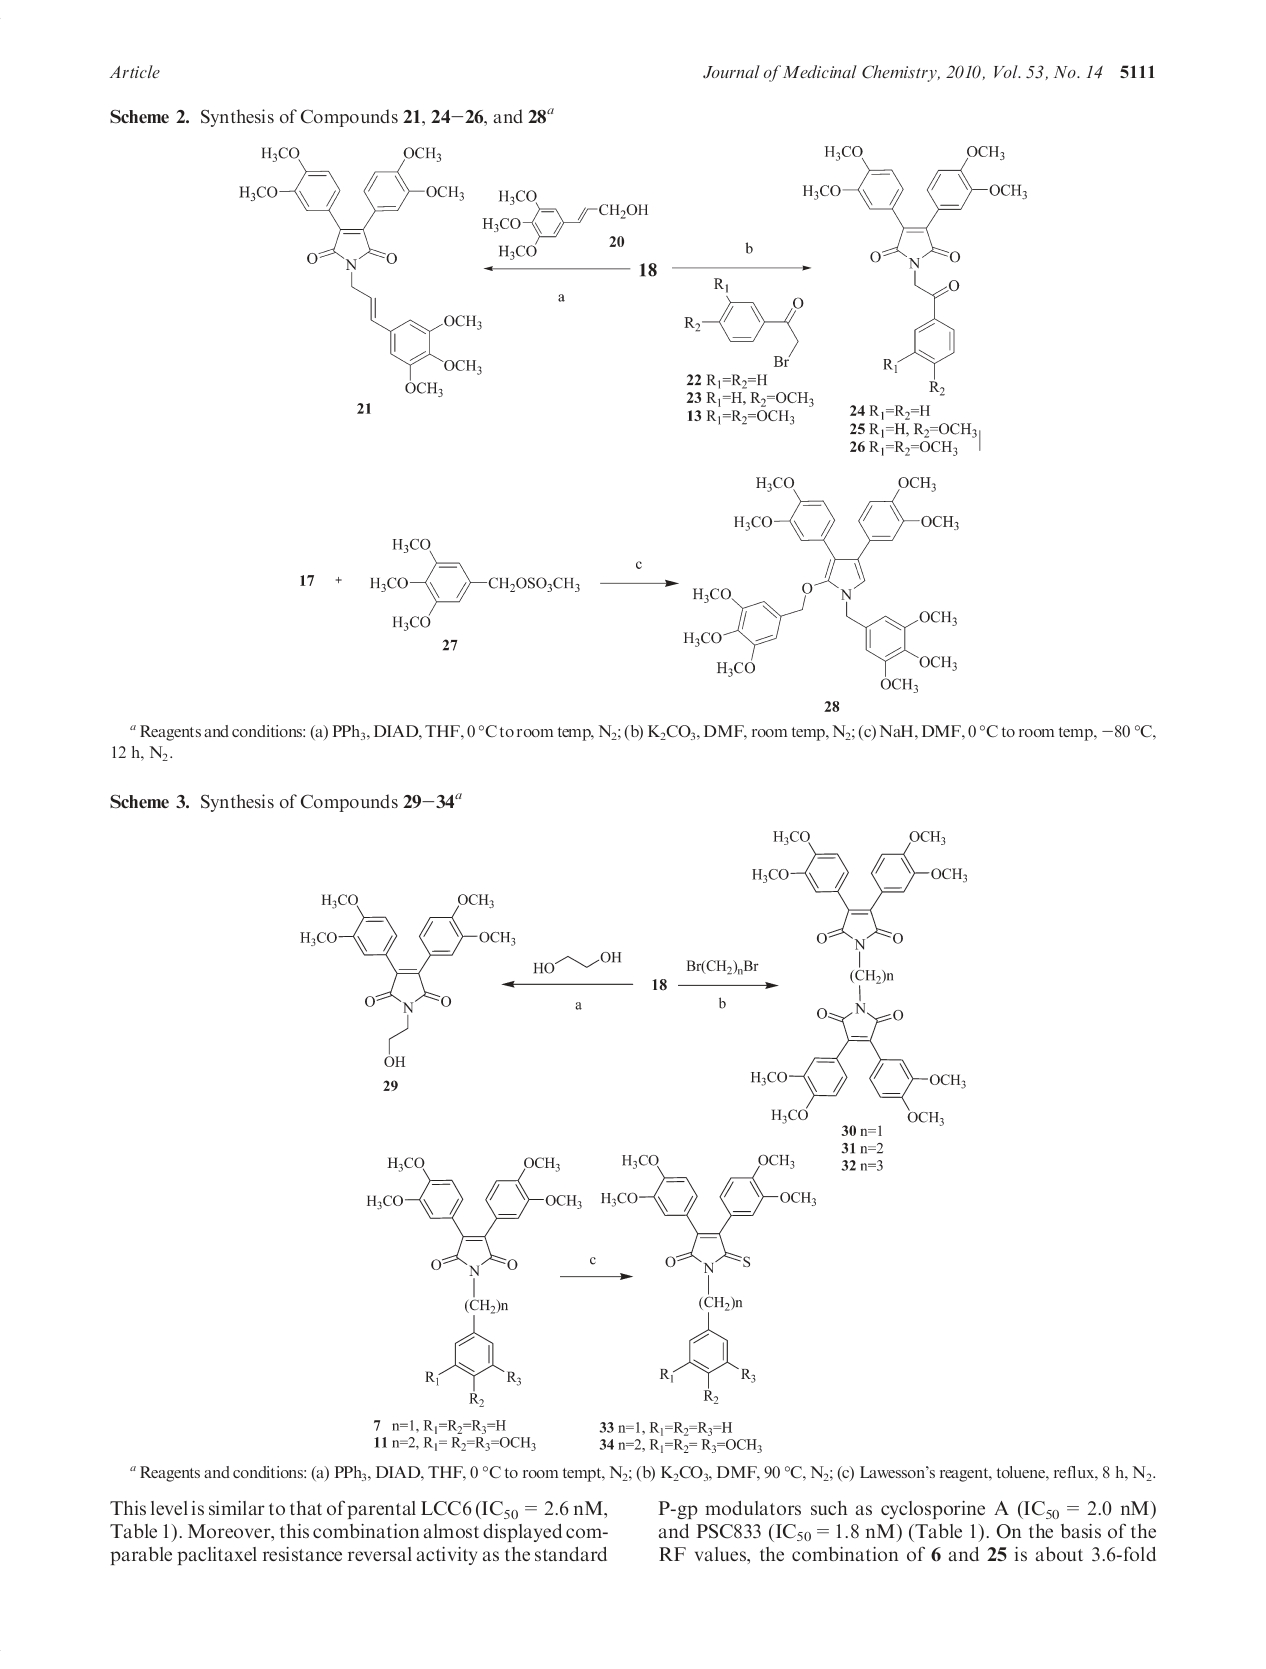exist_molecular: (225, 140, 489, 400), (684, 467, 981, 697), (746, 823, 971, 1128), (592, 1144, 823, 1407), (364, 1146, 593, 1408), (797, 140, 1029, 395), (293, 888, 519, 1072), (367, 525, 586, 632), (479, 181, 653, 261), (680, 274, 811, 375), (527, 942, 630, 981)
